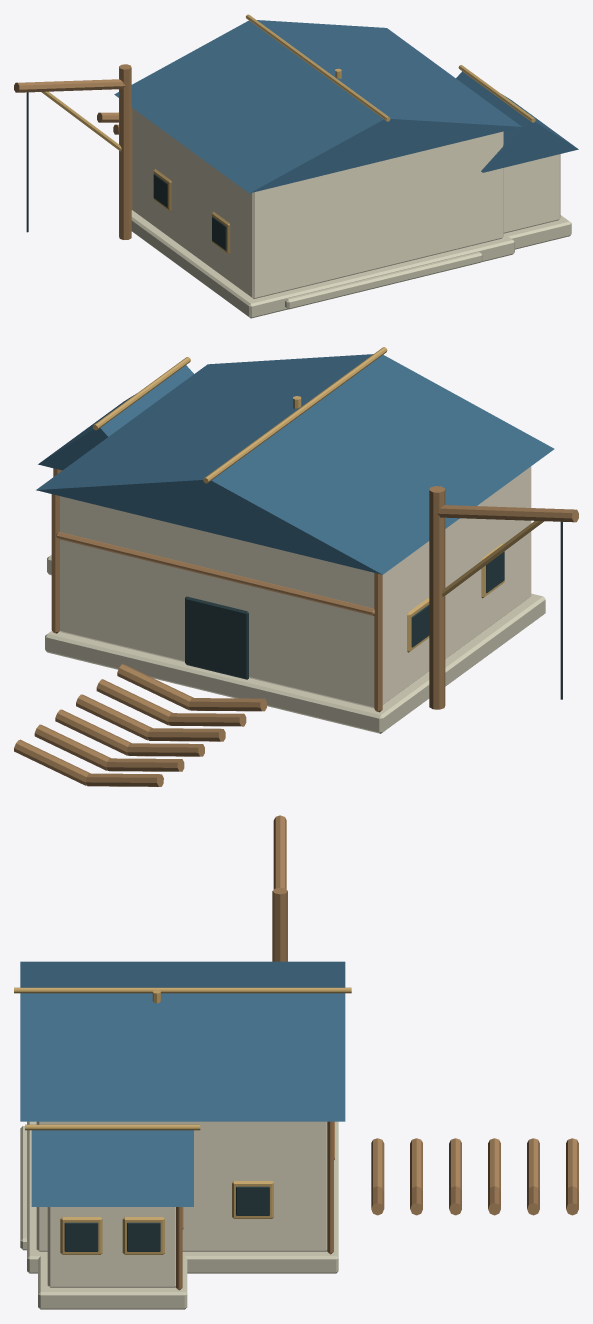
Rendered from level_16.glb.
3 renders of one model, top to bottom at view 1: azimuth 30°, elevation 25°; view 2: azimuth 150°, elevation 25°; view 3: azimuth 270°, elevation 25°, orthographic. The views are drawn at different scales.
Parts seen in each view (by area): view 1: shipyard — level 16; view 2: shipyard — level 16; view 3: shipyard — level 16.
Part boxes in pixels (x1,y1,x2,y2): shipyard — level 16: (14, 14, 578, 318); shipyard — level 16: (14, 347, 578, 786); shipyard — level 16: (14, 815, 578, 1309).
Size of the model in its own units: 9.81 by 3.91 by 8.7.
